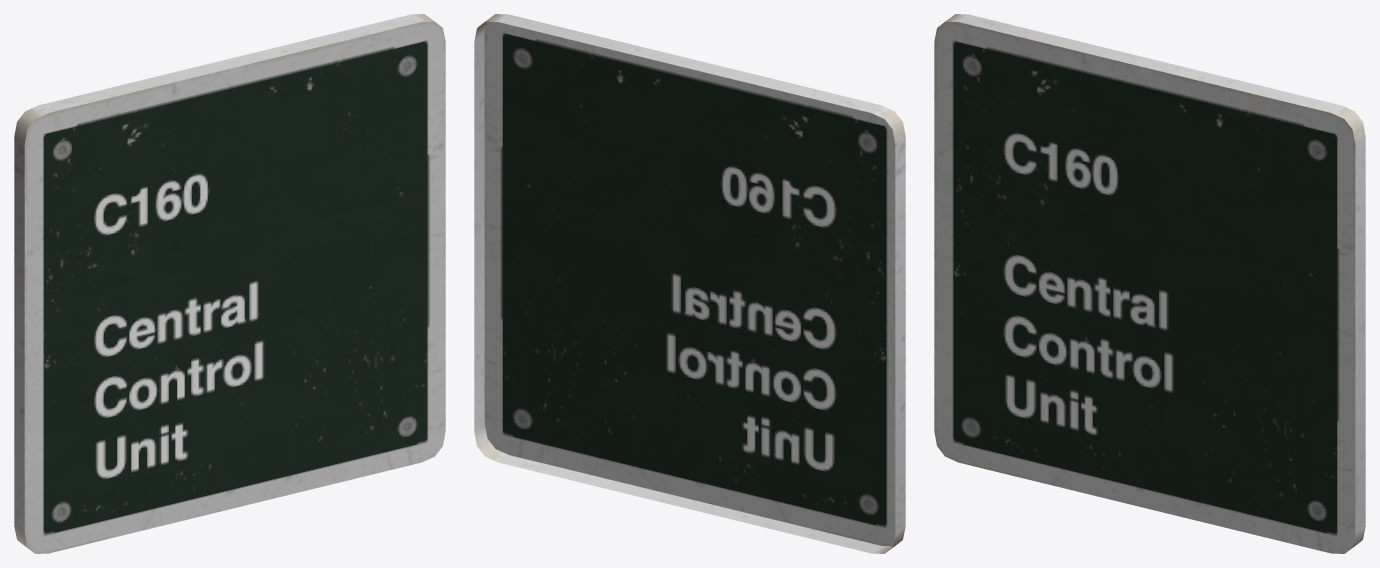
File: SM_Sign_19.fbx
The picture shows the model from 3 angles, left to right: view 1: azimuth 30°, elevation 25°; view 2: azimuth 150°, elevation 25°; view 3: azimuth 330°, elevation 25°; orthographic projection.
Visible parts, largest first — view 1: SM_Sign_19; view 2: SM_Sign_19; view 3: SM_Sign_19.
Boxes of the visible parts, <box> form: SM_Sign_19: <box>14,14,445,553</box>; SM_Sign_19: <box>474,14,905,553</box>; SM_Sign_19: <box>934,14,1365,553</box>.
Bounding box in the file's own units: 35 × 1.5 × 35.
Materials: 1 (1 with a texture image).
